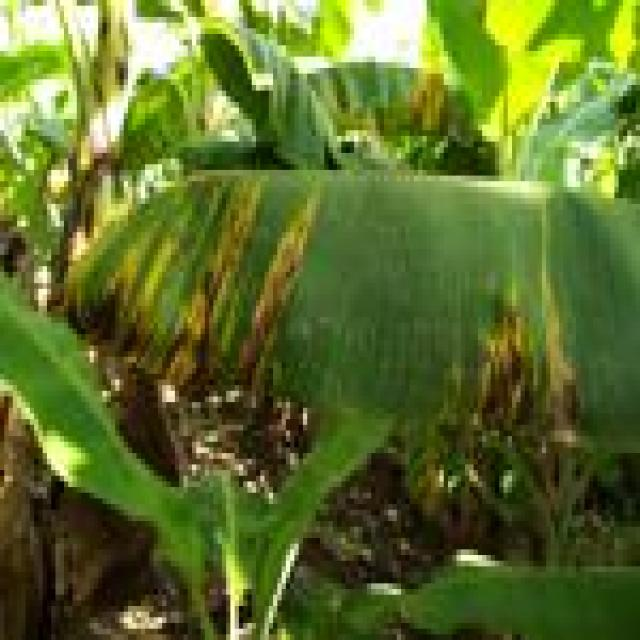Early_rust: (54, 118, 338, 418), (433, 266, 626, 484), (341, 22, 484, 162)
